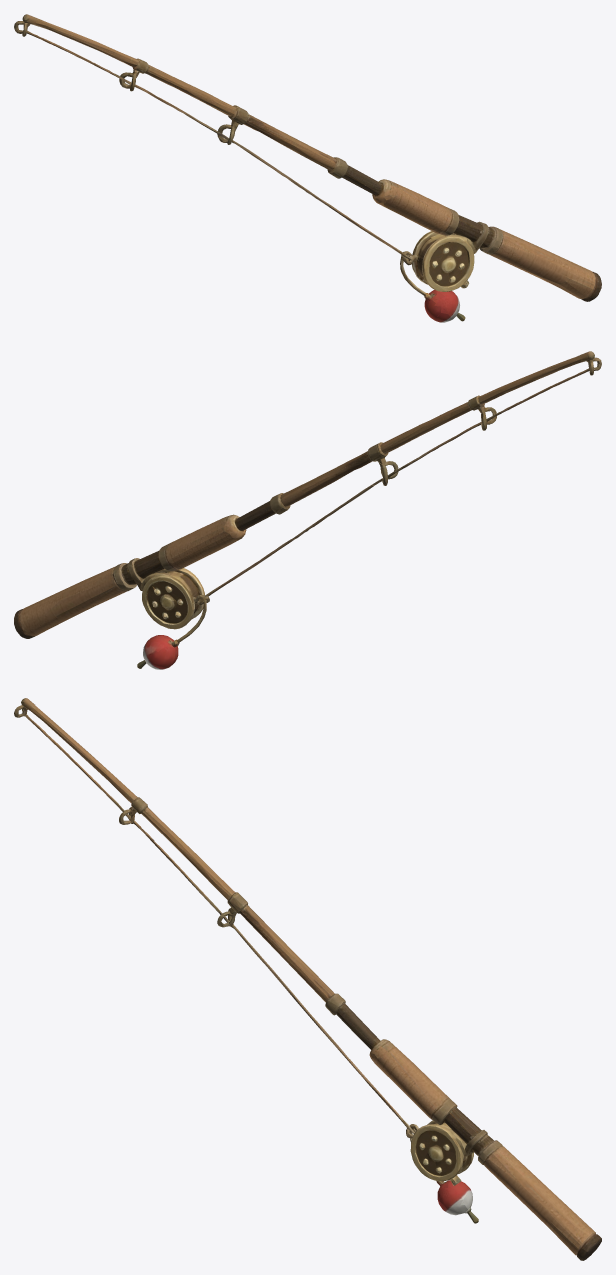
File: rod.glb
The picture shows the model from 3 angles, top to bottom: view 1: azimuth 30°, elevation 25°; view 2: azimuth 150°, elevation 25°; view 3: azimuth 330°, elevation 25°; orthographic projection.
Bounding box in the file's own units: 1.91 × 1.32 × 0.1322.
Materials: 1 (1 with a texture image).
